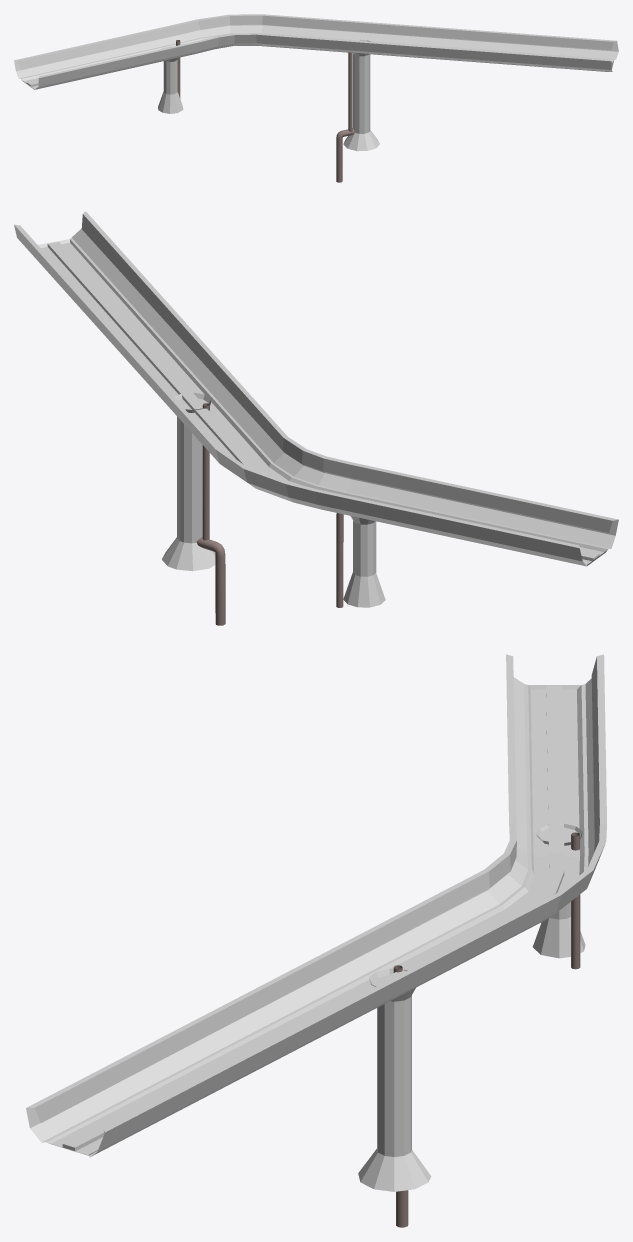
File: monorail.fbx
3 views of the same model, one above another, from view 1: azimuth 30°, elevation 25°; view 2: azimuth 150°, elevation 25°; view 3: azimuth 270°, elevation 25° (orthographic). The views are drawn at different scales.
Parts seen in each view (by area): view 1: Cube.017, Cylinder.003, Cylinder.004, NurbsCurve.016, NurbsCurve.017; view 2: Cube.017, Cylinder.003, Cylinder.004, NurbsCurve.016, NurbsCurve.017, NurbsCurve.019; view 3: Cube.017, Cylinder.003, Cylinder.004, NurbsCurve.019.
Part boxes in pixels (x1,y1,x2,y2): Cube.017: [14, 14, 618, 89]; Cylinder.003: [343, 39, 379, 151]; Cylinder.004: [158, 46, 183, 113]; NurbsCurve.016: [336, 128, 354, 182]; NurbsCurve.017: [348, 52, 352, 131]; Cube.017: [14, 211, 618, 566]; Cylinder.003: [162, 392, 215, 571]; Cylinder.004: [343, 501, 385, 607]; NurbsCurve.016: [196, 537, 225, 625]; NurbsCurve.017: [202, 403, 209, 540]; NurbsCurve.019: [336, 513, 343, 607]; Cube.017: [26, 654, 606, 1156]; Cylinder.003: [358, 968, 431, 1191]; Cylinder.004: [533, 823, 585, 958]; NurbsCurve.019: [571, 832, 580, 969].
Size of the model in its own units: 3378 by 1020 by 1778.
